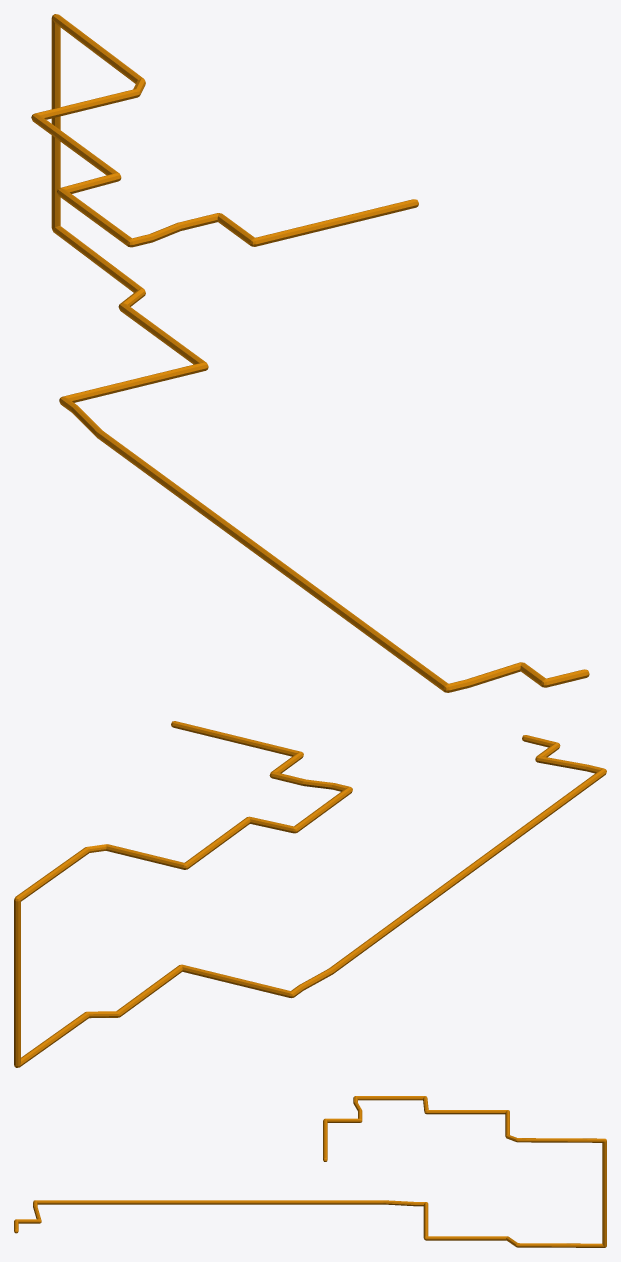
The picture shows the model from 3 angles, top to bottom: view 1: azimuth 30°, elevation 25°; view 2: azimuth 150°, elevation 25°; view 3: azimuth 270°, elevation 25°; orthographic projection. The views are drawn at different scales.
Bounding box in the file's own units: 660 × 520 × 2557.
